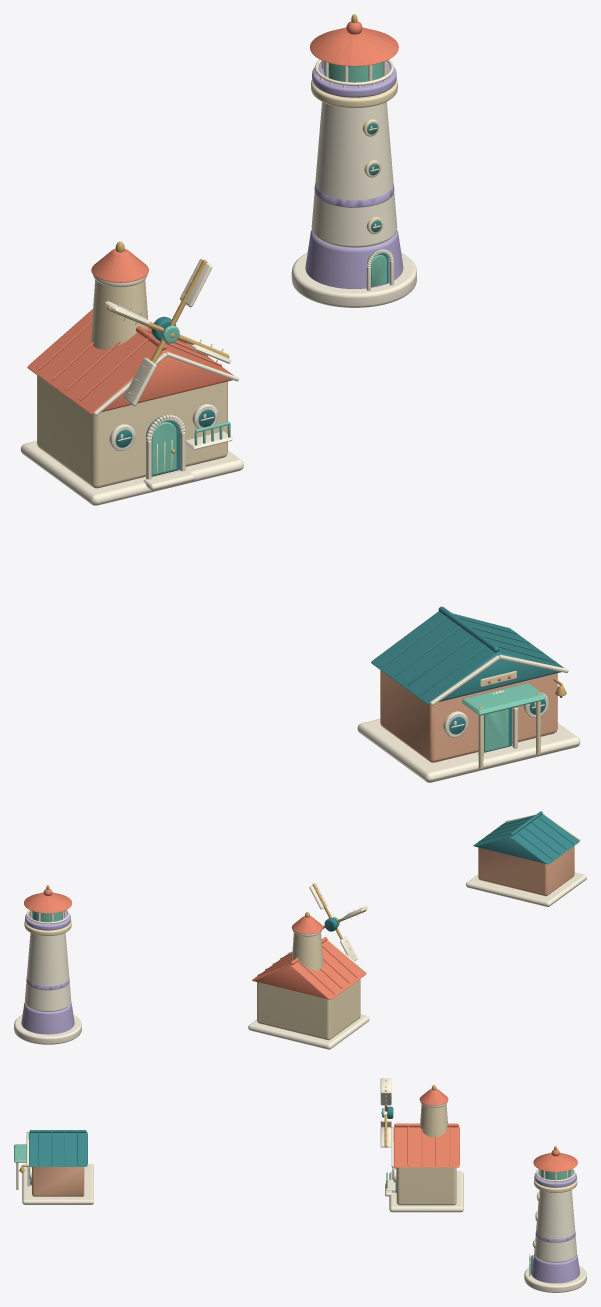
File: toy-landmarks.glb
3 views of the same model, one above another, from view 1: azimuth 30°, elevation 25°; view 2: azimuth 150°, elevation 25°; view 3: azimuth 270°, elevation 25° (orthographic). The views are drawn at different scales.
Visible parts, largest first — view 1: Toy landmarks • vanilla white, Toy landmarks • buttery cream, Toy landmarks • coral enamel, Toy landmarks • deep teal, Toy landmarks • peach plastic, Toy landmarks • lavender, Toy landmarks • mint paint, Toy rotor • vanilla white, ToyHouseWindows, Toy rotor • satin brass; view 2: Toy landmarks • vanilla white, Toy landmarks • buttery cream, Toy landmarks • coral enamel, Toy landmarks • deep teal, Toy landmarks • peach plastic, Toy landmarks • lavender, Toy rotor • vanilla white; view 3: Toy landmarks • vanilla white, Toy landmarks • coral enamel, Toy landmarks • buttery cream, Toy landmarks • deep teal, Toy landmarks • peach plastic, Toy landmarks • lavender, Toy rotor • vanilla white, Toy landmarks • mint paint.
Part boxes in pixels (box(x1,y1,x2,y2)): Toy landmarks • vanilla white: box(20, 59, 580, 782); Toy landmarks • buttery cream: box(37, 79, 540, 769); Toy landmarks • coral enamel: box(27, 21, 510, 683); Toy landmarks • deep teal: box(146, 251, 563, 752); Toy landmarks • peach plastic: box(380, 670, 557, 762); Toy landmarks • lavender: box(305, 63, 403, 288); Toy landmarks • mint paint: box(151, 255, 545, 751); Toy rotor • vanilla white: box(105, 258, 231, 405); ToyHouseWindows: box(115, 123, 545, 734); Toy rotor • satin brass: box(107, 260, 229, 404); Toy landmarks • vanilla white: box(14, 813, 586, 1049); Toy landmarks • buttery cream: box(24, 921, 360, 1040); Toy landmarks • coral enamel: box(24, 889, 365, 999); Toy landmarks • deep teal: box(324, 811, 579, 931); Toy landmarks • peach plastic: box(478, 846, 574, 896); Toy landmarks • lavender: box(21, 911, 74, 1034); Toy rotor • vanilla white: box(309, 883, 367, 961); Toy landmarks • vanilla white: box(22, 1102, 586, 1292); Toy landmarks • coral enamel: box(393, 1088, 577, 1172); Toy landmarks • buttery cream: box(16, 1104, 577, 1248); Toy landmarks • deep teal: box(21, 1106, 532, 1274); Toy landmarks • peach plastic: box(32, 1167, 84, 1196); Toy landmarks • lavender: box(532, 1172, 579, 1283); Toy rotor • vanilla white: box(380, 1078, 391, 1147); Toy landmarks • mint paint: box(14, 1144, 531, 1273).
Size of the model in its own units: 32.25 by 16.08 by 62.2.
